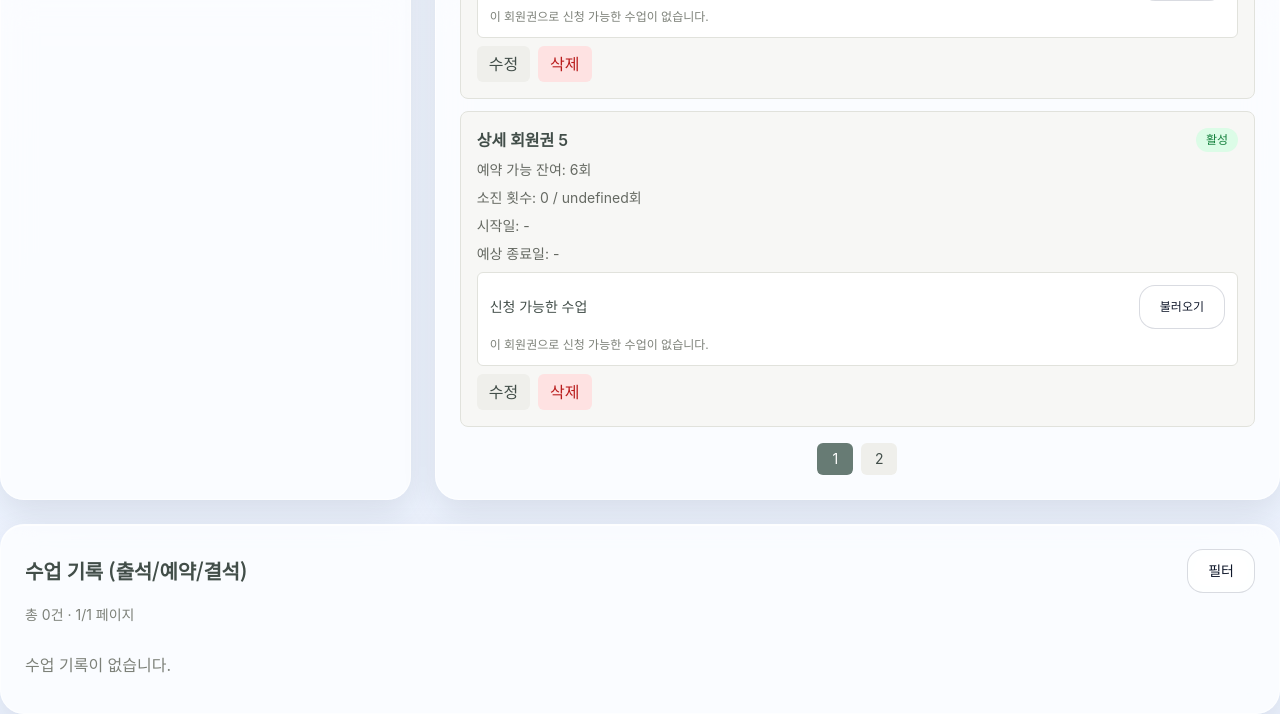
Test: CustomerDetail page › paginates memberships with numbered buttons in customer detail
(page scrolled)
Expected: the button "1" is shown, [817,443,853,475]
Expected: the text "상세 회원권 6" is not shown
Step 1. Click the button "2" → (879,459), box [861,443,897,475]
(page scrolled)
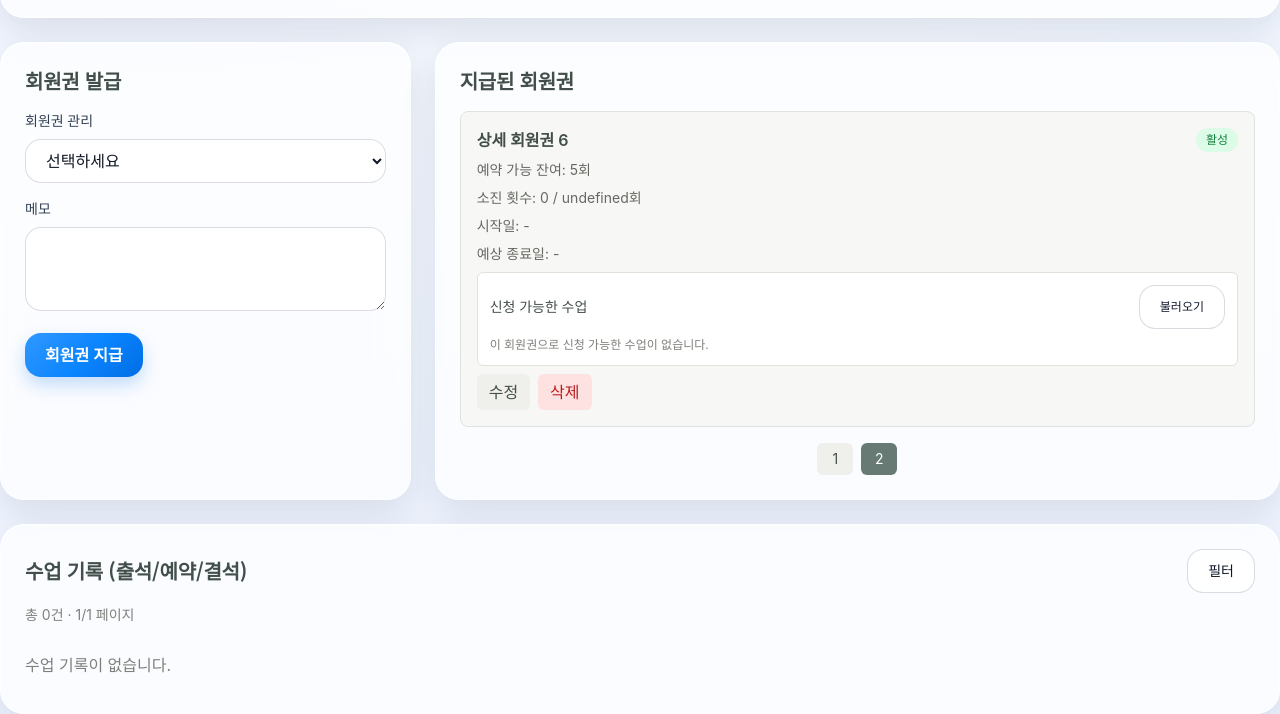
Now the text "상세 회원권 6" is shown, box [477,128,569,152]
